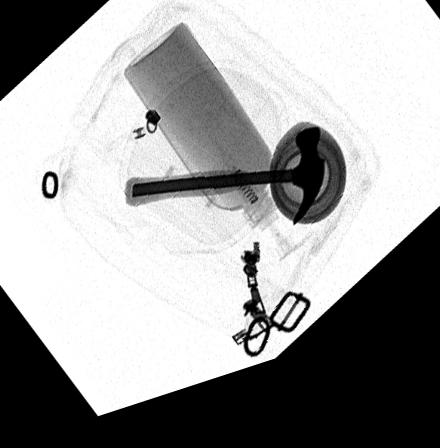Hammer: (123, 145, 325, 245)
